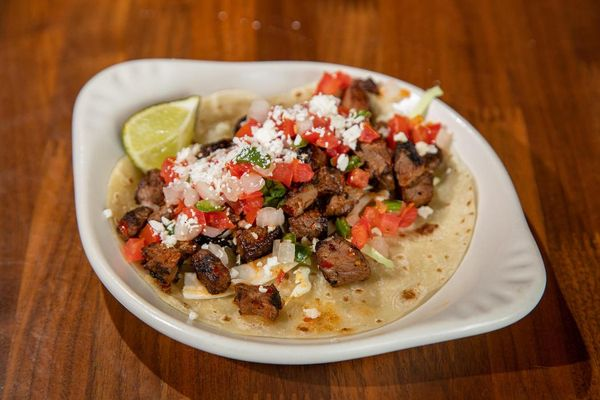sushi: (71, 58, 555, 365)
taco: (121, 95, 200, 174)
